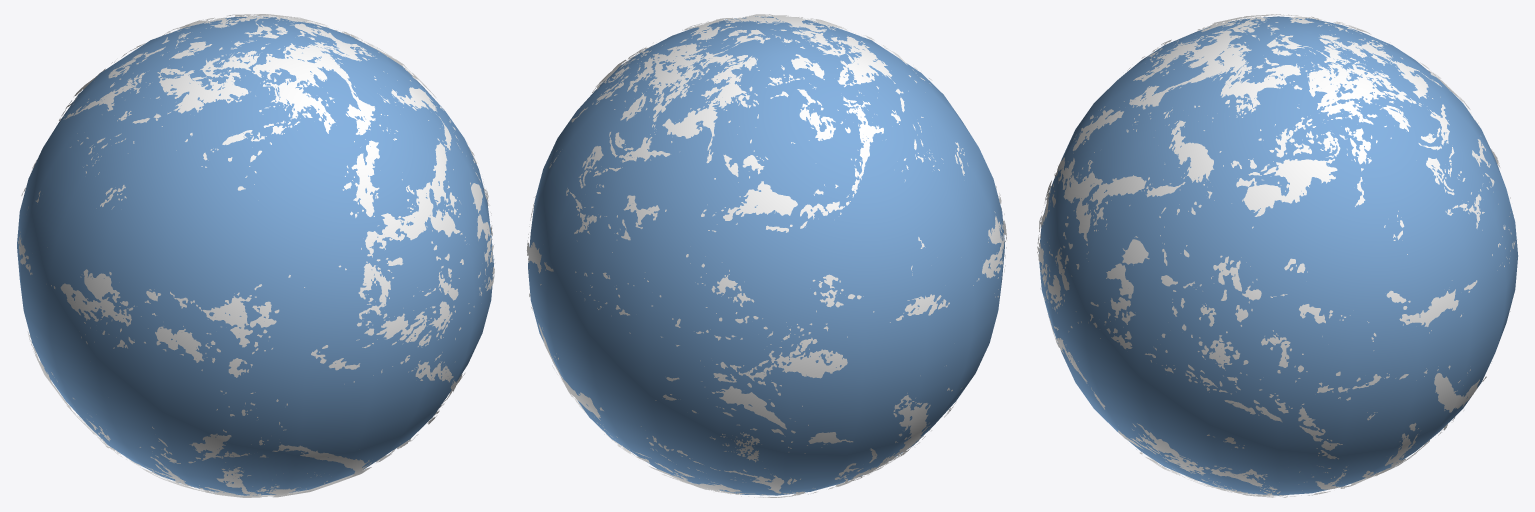
The model's file is Clouds_Atmosohere.fbx.
3 renders of one model, left to right at view 1: azimuth 30°, elevation 25°; view 2: azimuth 150°, elevation 25°; view 3: azimuth 270°, elevation 25°, orthographic.
Parts seen in each view (by area): view 1: Atmosphere, clouds; view 2: Atmosphere, clouds; view 3: Atmosphere, clouds.
Part boxes in pixels (x1,y1,x2,y2): Atmosphere: (17,16,493,495); clouds: (18,14,494,497); Atmosphere: (528,16,1004,495); clouds: (526,14,1006,497); Atmosphere: (1039,16,1518,495); clouds: (1037,14,1517,497).
Bounding box in the file's own units: 17.67 × 17.67 × 17.67.
